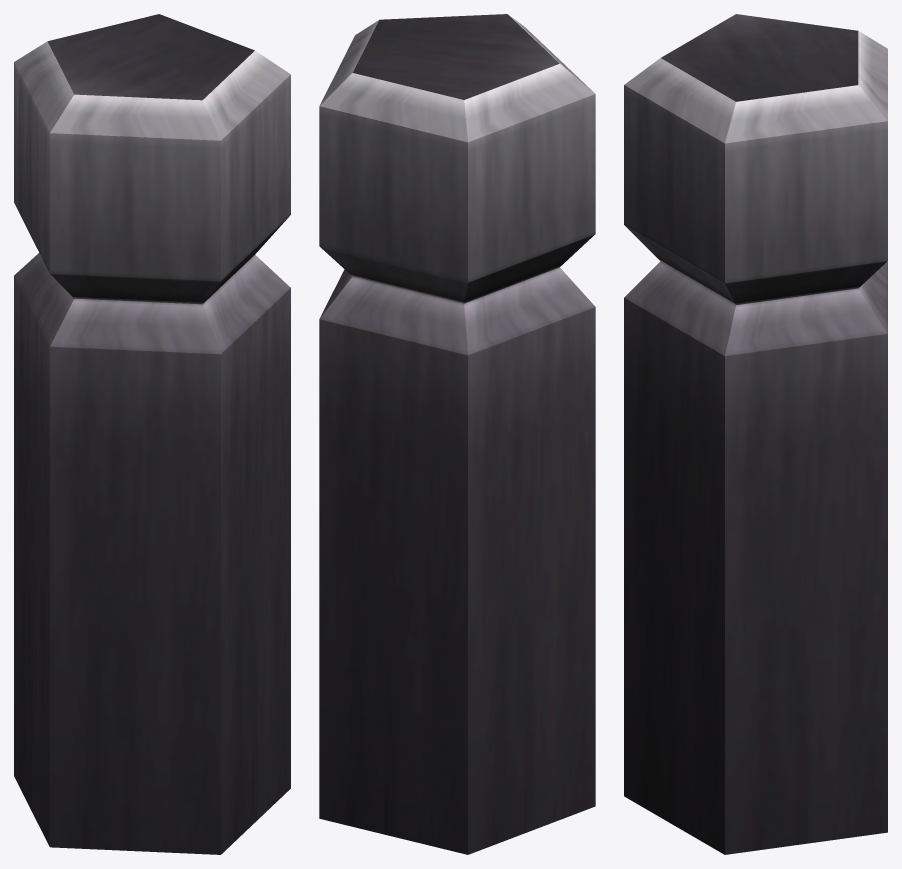
The model's file is tubeCylinder.fbx.
The picture shows the model from 3 angles, left to right: view 1: azimuth 30°, elevation 25°; view 2: azimuth 150°, elevation 25°; view 3: azimuth 270°, elevation 25°; orthographic projection.
Visible parts, largest first — view 1: tubeCylinder; view 2: tubeCylinder; view 3: tubeCylinder.
Boxes of the visible parts, x1,y1,x2,y2 form: tubeCylinder: [14, 14, 290, 854]; tubeCylinder: [319, 14, 595, 854]; tubeCylinder: [624, 14, 887, 854].
Bounding box in the file's own units: 0.4487 × 1.32 × 0.4267.
